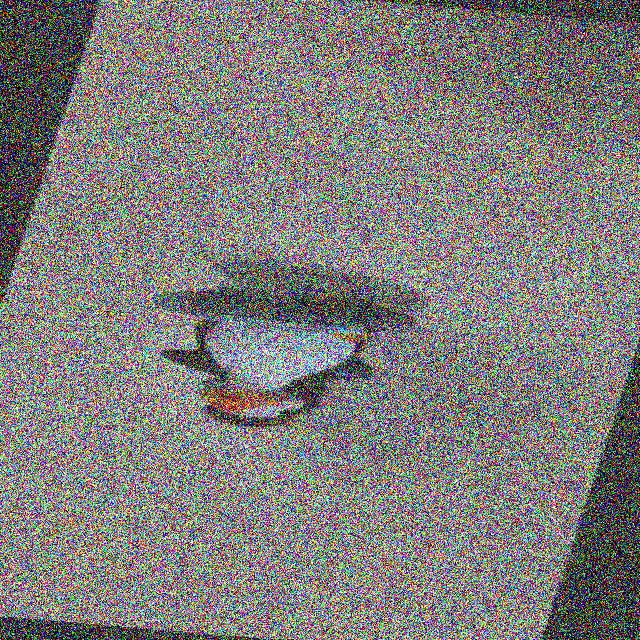Penguin: (123, 280, 413, 442)
